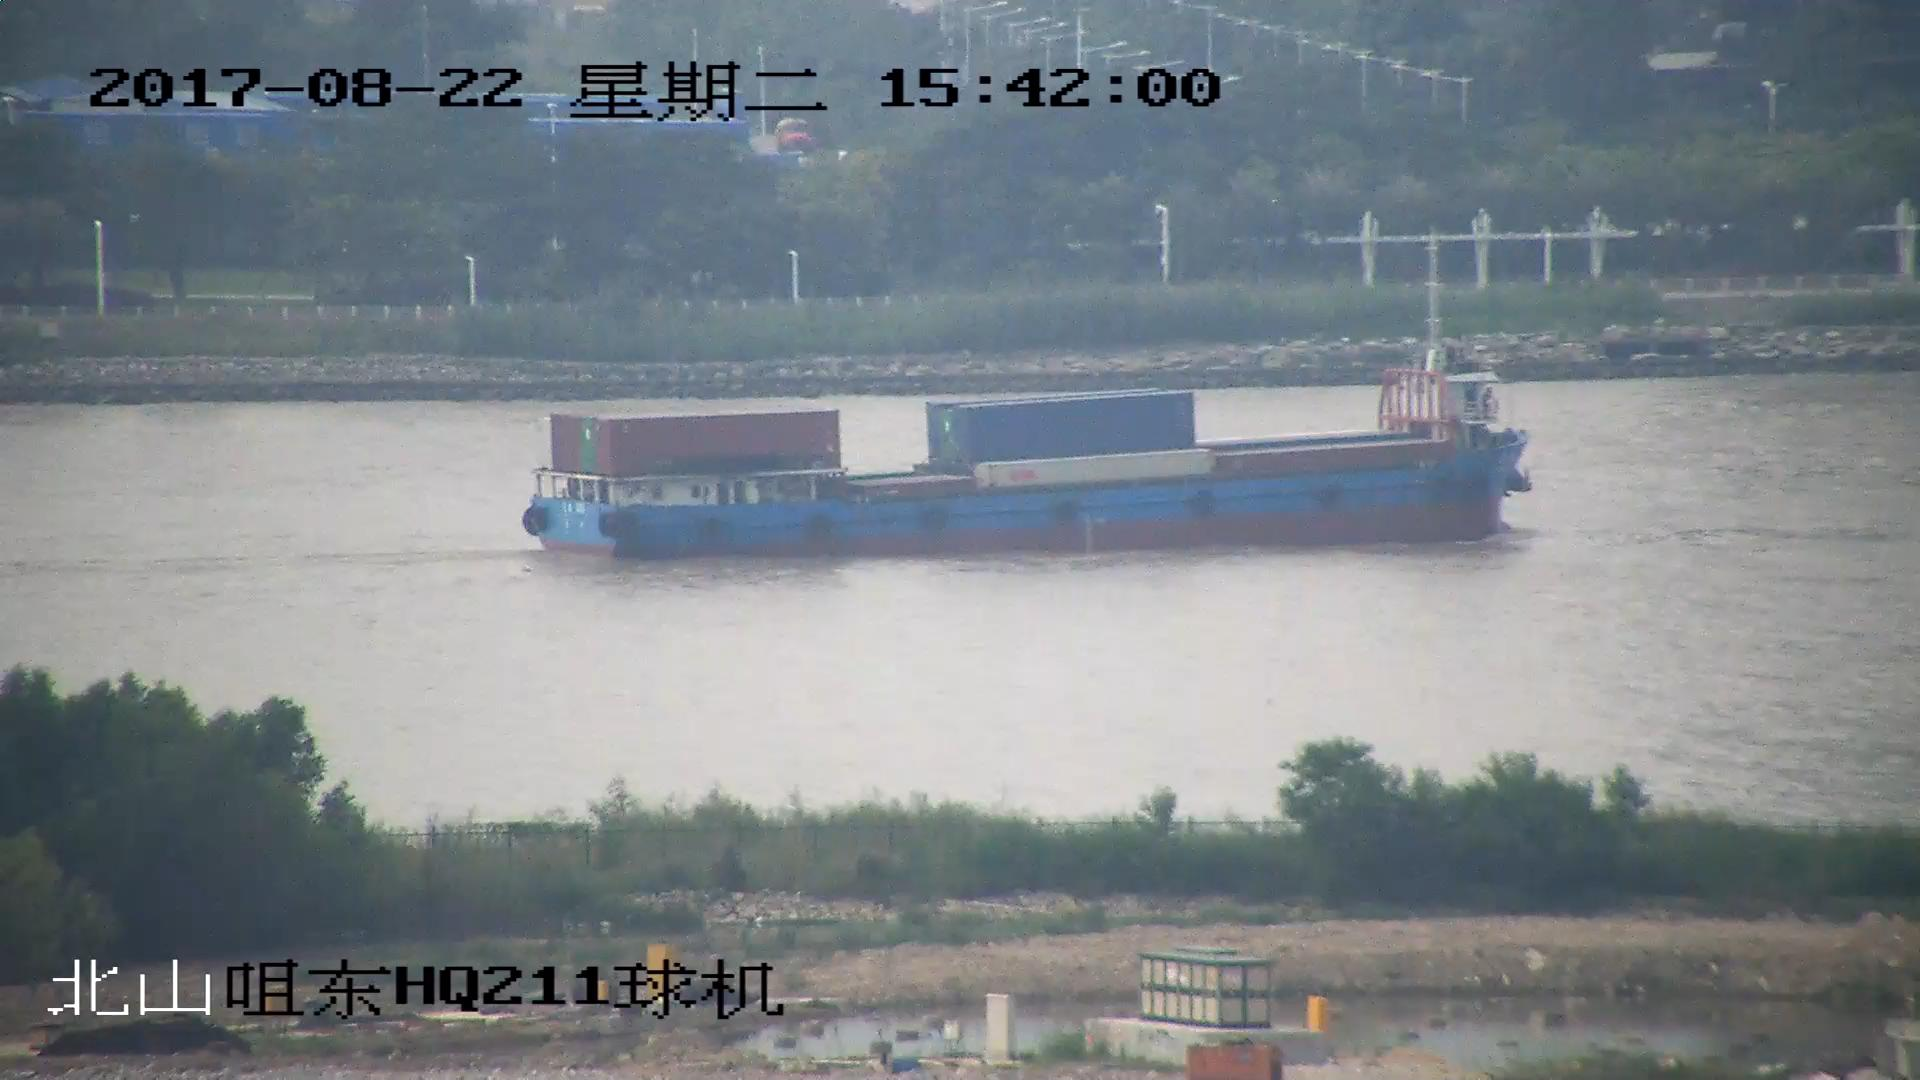container ship: (532, 260, 1537, 553)
